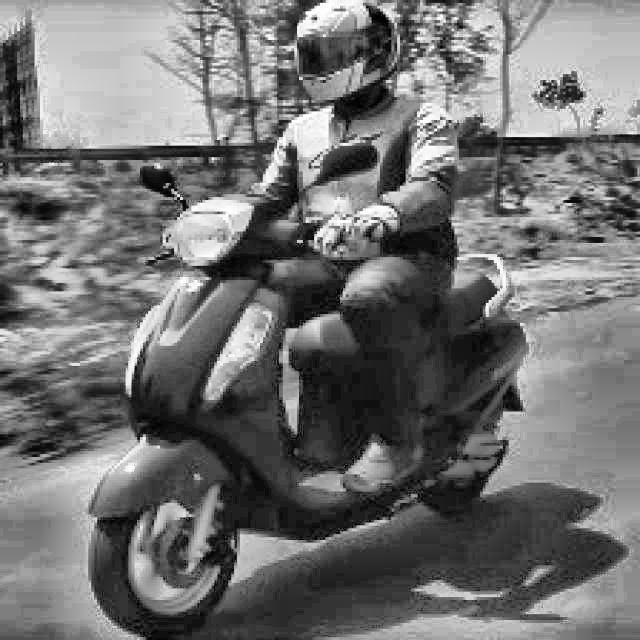motorcycle: (77, 143, 520, 640)
